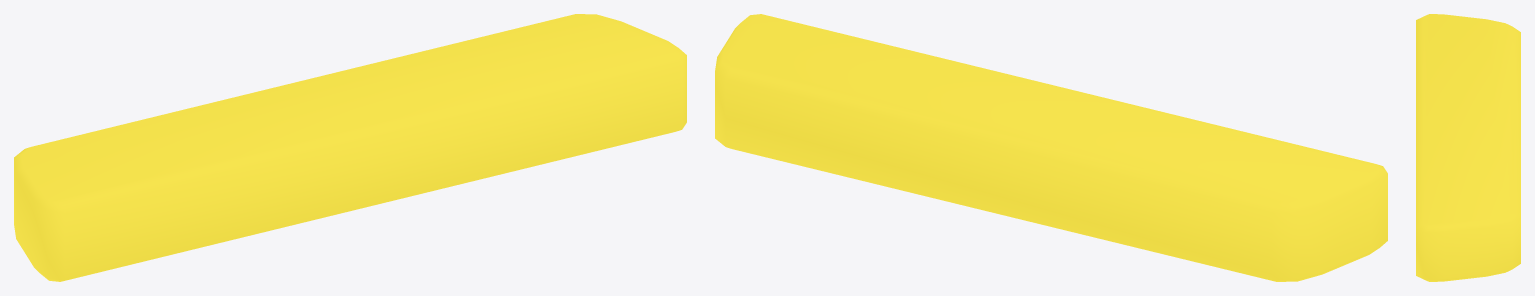
The model's file is directional_elligible_tile_indicator.glb.
3 views of the same model, side by side, from view 1: azimuth 30°, elevation 25°; view 2: azimuth 150°, elevation 25°; view 3: azimuth 270°, elevation 25° (orthographic). The views are drawn at different scales.
Visible parts, largest first — view 1: Circle; view 2: Circle; view 3: Circle.
Boxes of the visible parts, bbox=[...] form: Circle: bbox=[14, 14, 686, 281]; Circle: bbox=[715, 14, 1387, 281]; Circle: bbox=[1416, 14, 1520, 281].
Size of the model in its own units: 0.8127 by 0.0963 by 0.1666.
